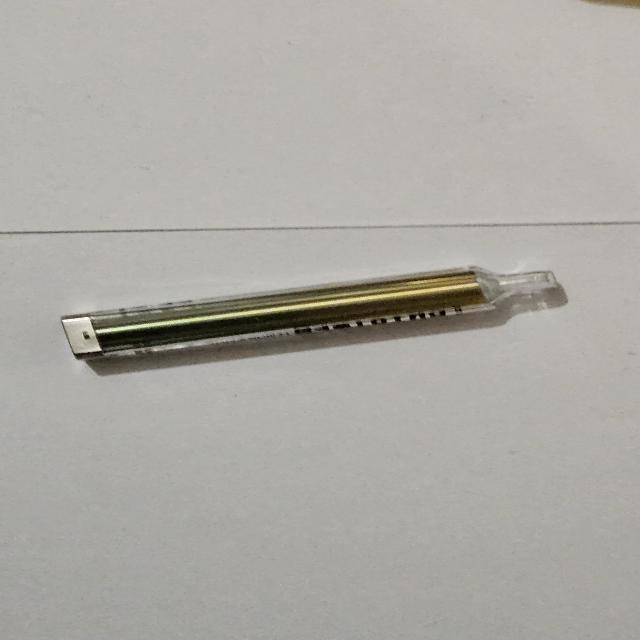Hazard: (59, 264, 569, 360)
